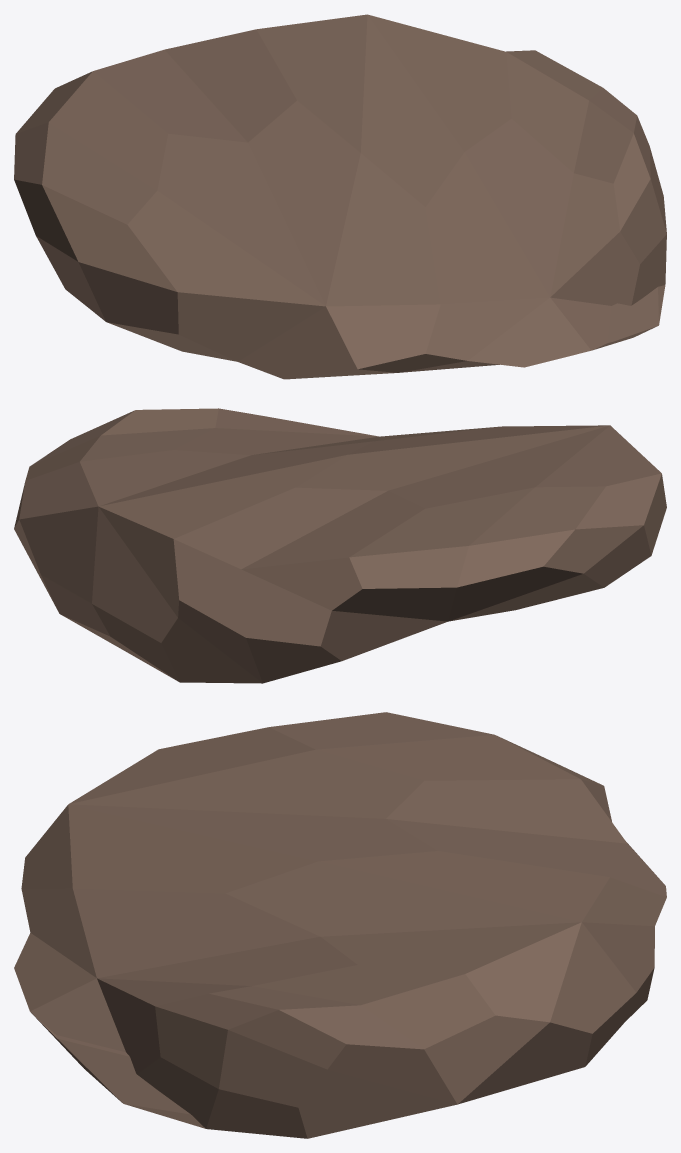
File: piedra_4.fbx
3 views of the same model, one above another, from view 1: azimuth 30°, elevation 25°; view 2: azimuth 150°, elevation 25°; view 3: azimuth 270°, elevation 25° (orthographic). The views are drawn at different scales.
Parts seen in each view (by area): view 1: piedra_5; view 2: piedra_5; view 3: piedra_5.
Part boxes in pixels (bbox=[...]): piedra_5: bbox=[14, 14, 666, 379]; piedra_5: bbox=[14, 408, 666, 683]; piedra_5: bbox=[14, 712, 666, 1138].
Size of the model in its own units: 52.12 by 14.13 by 49.8.
